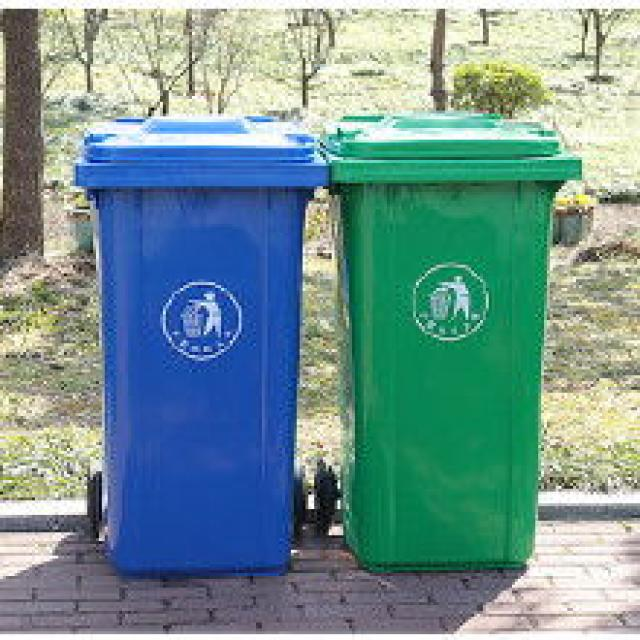garbage_bin: (317, 111, 579, 567), (70, 113, 326, 576)
